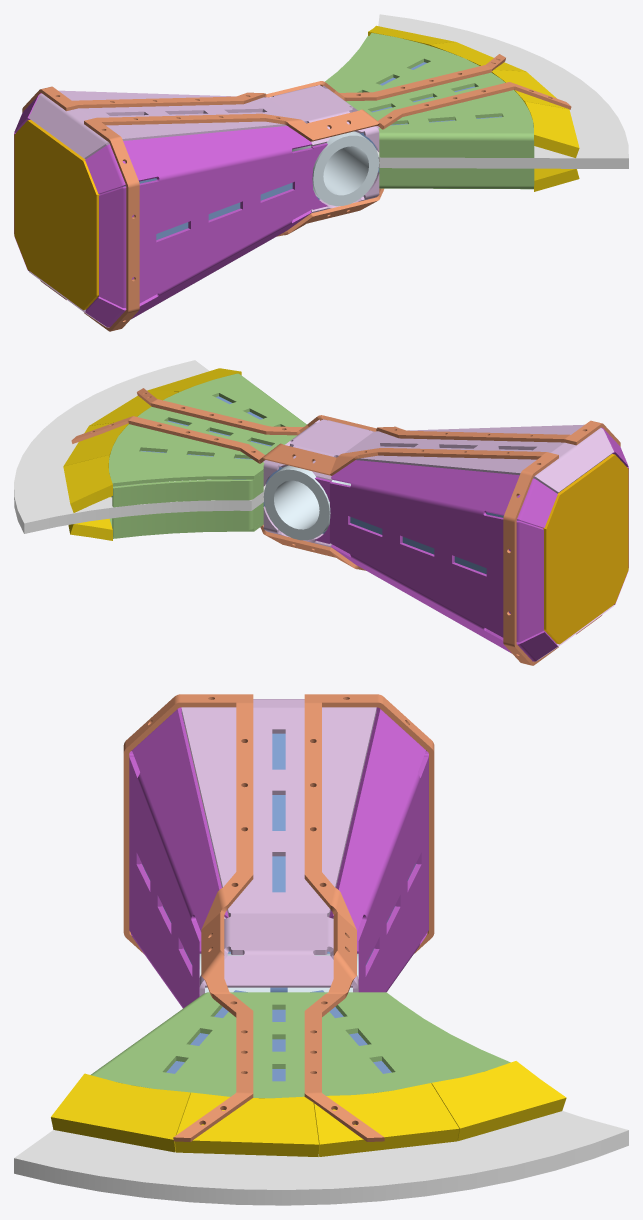
The picture shows the model from 3 angles, top to bottom: view 1: azimuth 30°, elevation 25°; view 2: azimuth 150°, elevation 25°; view 3: azimuth 270°, elevation 25°; orthographic projection. The views are drawn at different scales.
Visible parts, largest first — view 1: Part 16, Part 18, Part 5, Part 1, Part 17, Part 26, Part 27, Part 2, Part 24, Part 28, Part 6, Part 8 (+5 smaller); view 2: Part 15, Part 5, Part 18, Part 1, Part 17, Part 27, Part 26, Part 2, Part 19, Part 25, Part 29, Part 7 (+6 smaller); view 3: Part 17, Part 1, Part 18, Part 16, Part 15, Part 26, Part 27, Part 6, Part 8, Part 9, Part 7, Part 4 (+1 smaller).
Boxes of the visible parts, x1,y1,x2,y2 form: Part 16: (85,126,327,327); Part 18: (325,33,534,157); Part 5: (14,119,99,310); Part 1: (376,14,628,168); Part 17: (29,85,379,159); Part 26: (84,82,571,249); Part 27: (22,54,505,112); Part 2: (292,131,379,206); Part 24: (379,168,534,189); Part 28: (84,188,383,331); Part 6: (525,101,579,157); Part 8: (491,70,568,109); Part 15: (315,460,557,661); Part 5: (543,454,628,644); Part 18: (109,373,306,486); Part 1: (14,360,265,533); Part 17: (263,419,613,493); Part 27: (71,416,558,583); Part 26: (137,388,620,446); Part 2: (263,465,350,540); Part 19: (112,472,263,507); Part 25: (112,502,263,536); Part 29: (260,525,558,665); Part 7: (63,455,112,512); Part 17: (181,699,376,996); Part 1: (14,1111,628,1205); Part 18: (91,992,510,1098); Part 16: (129,707,228,1008); Part 15: (329,707,428,992); Part 26: (123,694,253,1141); Part 27: (304,694,434,1141); Part 6: (51,1073,190,1152); Part 8: (175,1092,318,1156); Part 9: (314,1083,459,1156); Part 7: (431,1061,566,1140); Part 4: (270,733,287,1081).
Bounding box in the file's own units: 0.3302 × 0.115 × 0.2277.
